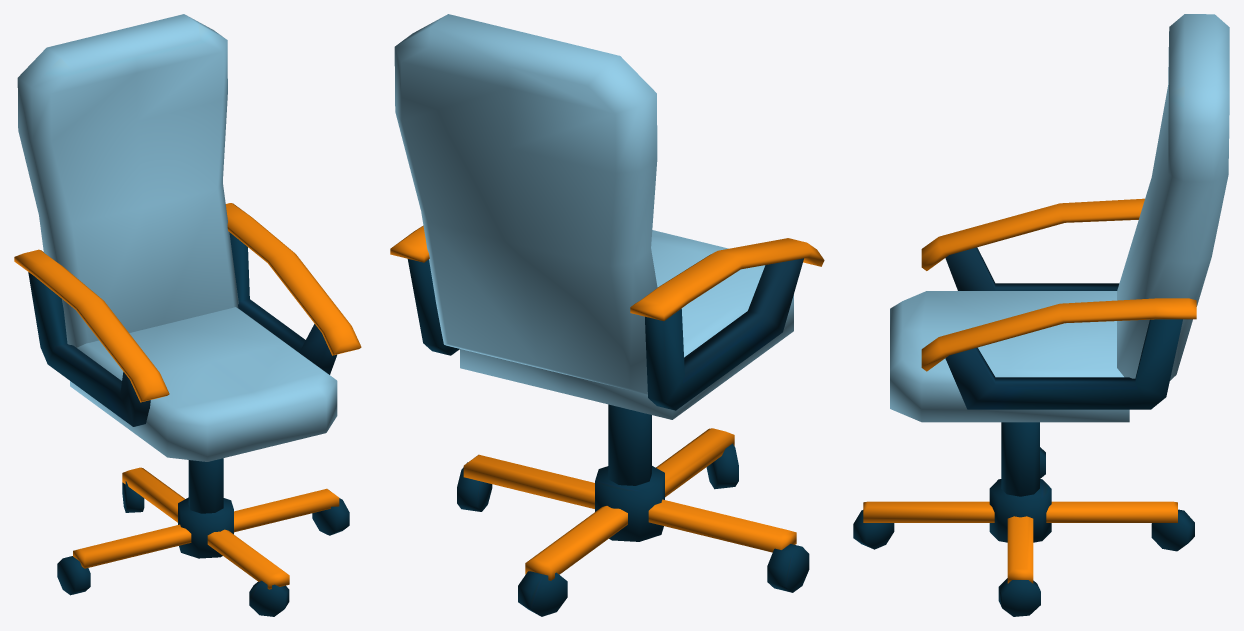
File: Chair.FBX
3 views of the same model, side by side, from view 1: azimuth 30°, elevation 25°; view 2: azimuth 150°, elevation 25°; view 3: azimuth 270°, elevation 25° (orthographic). The views are drawn at different scales.
Parts seen in each view (by area): view 1: Chair; view 2: Chair; view 3: Chair.
Boxes of the visible parts, x1=… form: Chair: x1=14, y1=14, x2=361, y2=616; Chair: x1=390, y1=14, x2=824, y2=616; Chair: x1=853, y1=14, x2=1229, y2=616.
Bounding box in the file's own units: 0.8753 × 1.43 × 0.9795.
